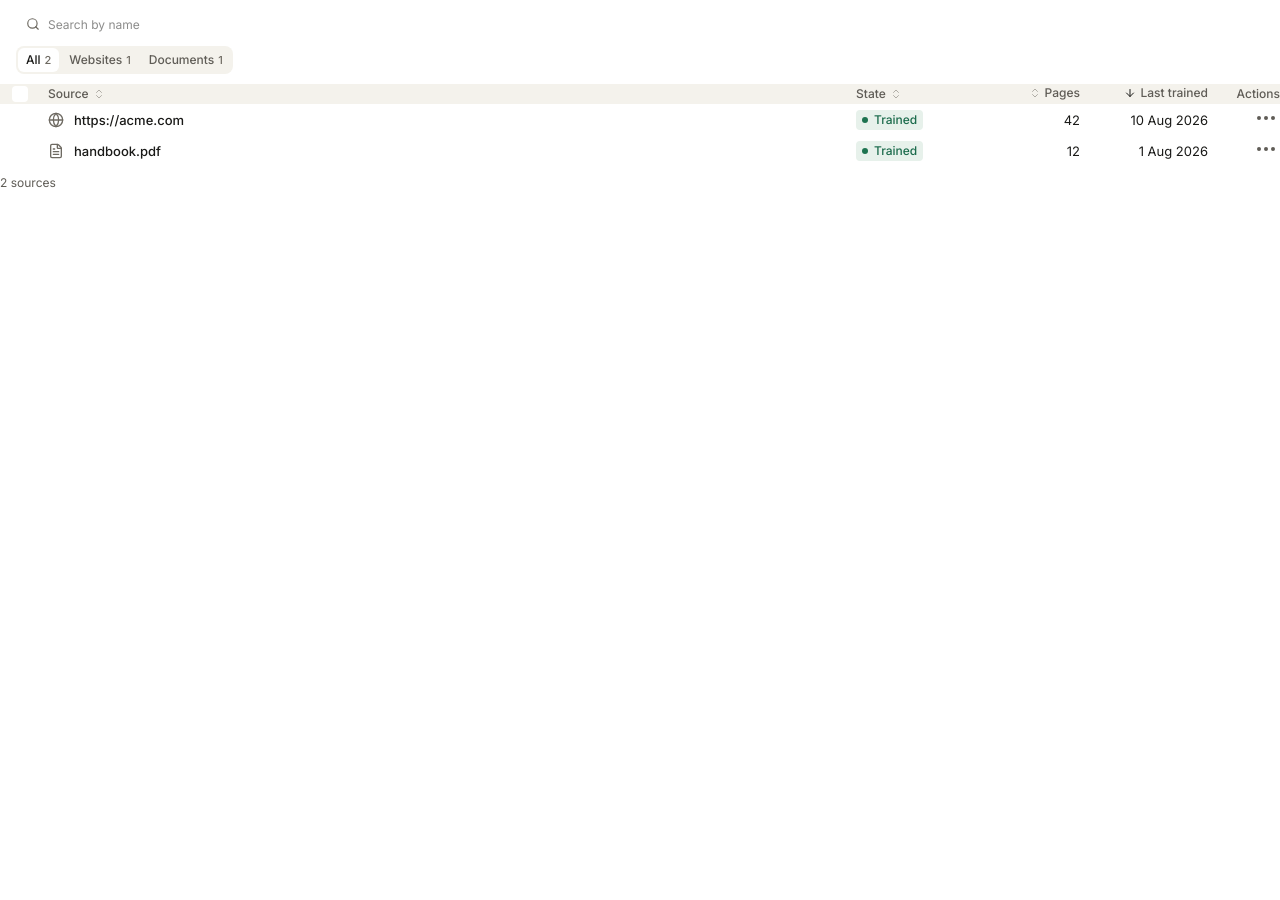
Scenario: SourcesTable — deleting indexed knowledge › deletes nothing when the confirmation is dismissed
The image size is (1280, 900).
Click the button named "Actions for handbook.pdf".
click(1266, 149)  # box [1252,135,1279,163]
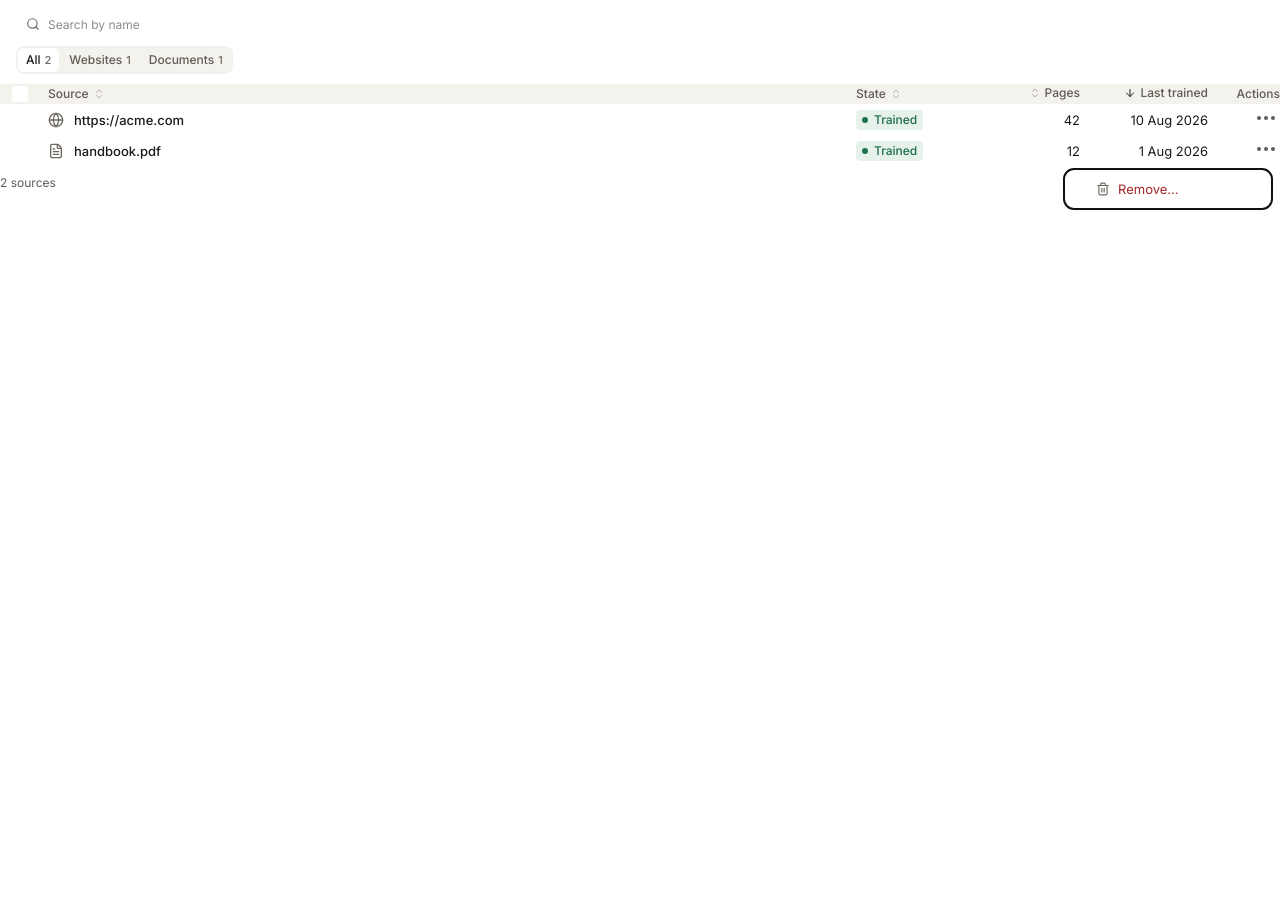
Click the menu item "Remove…".
click(1137, 189)  # box [1096,181,1179,197]
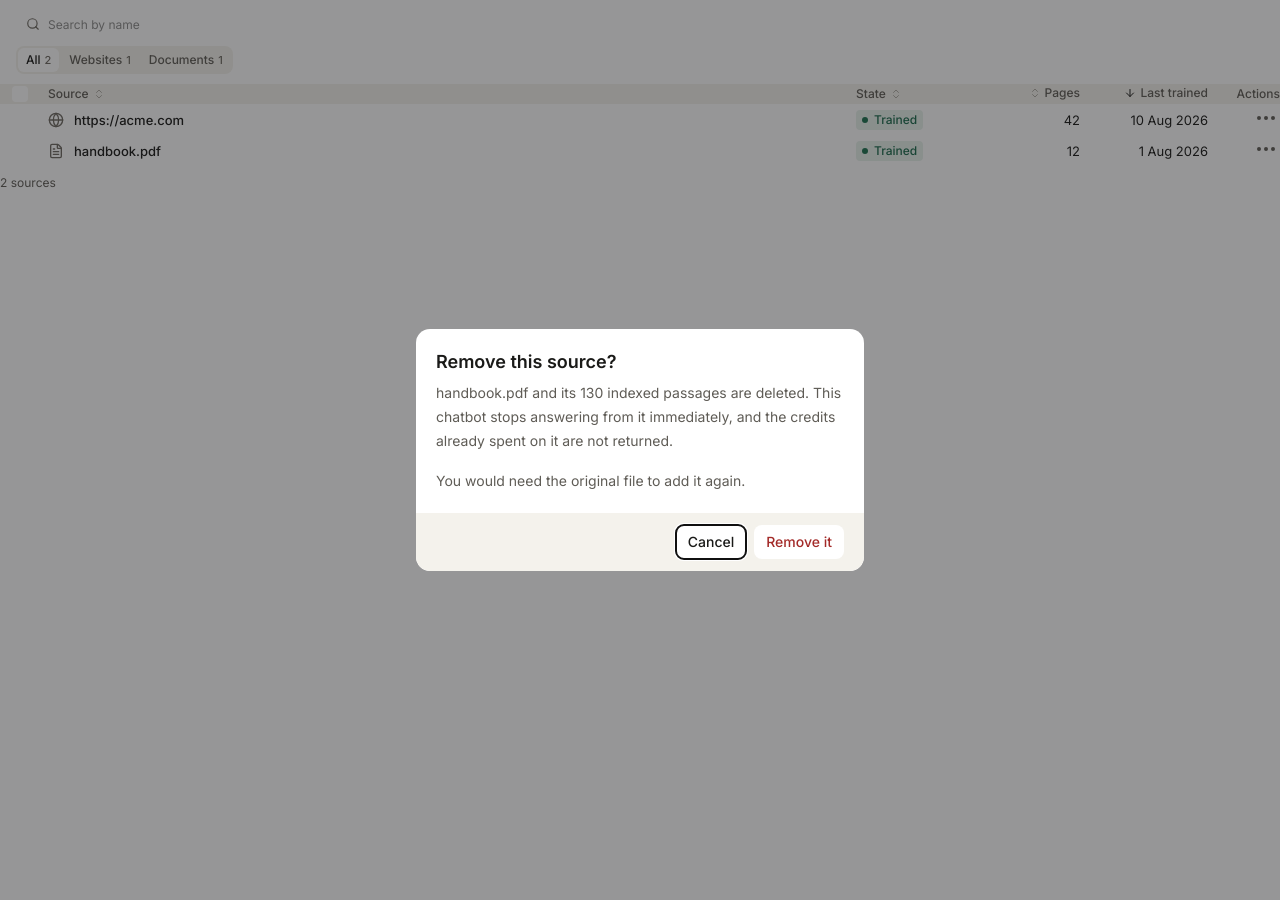
Click the button "Cancel".
click(711, 542)  # box [676,525,746,559]
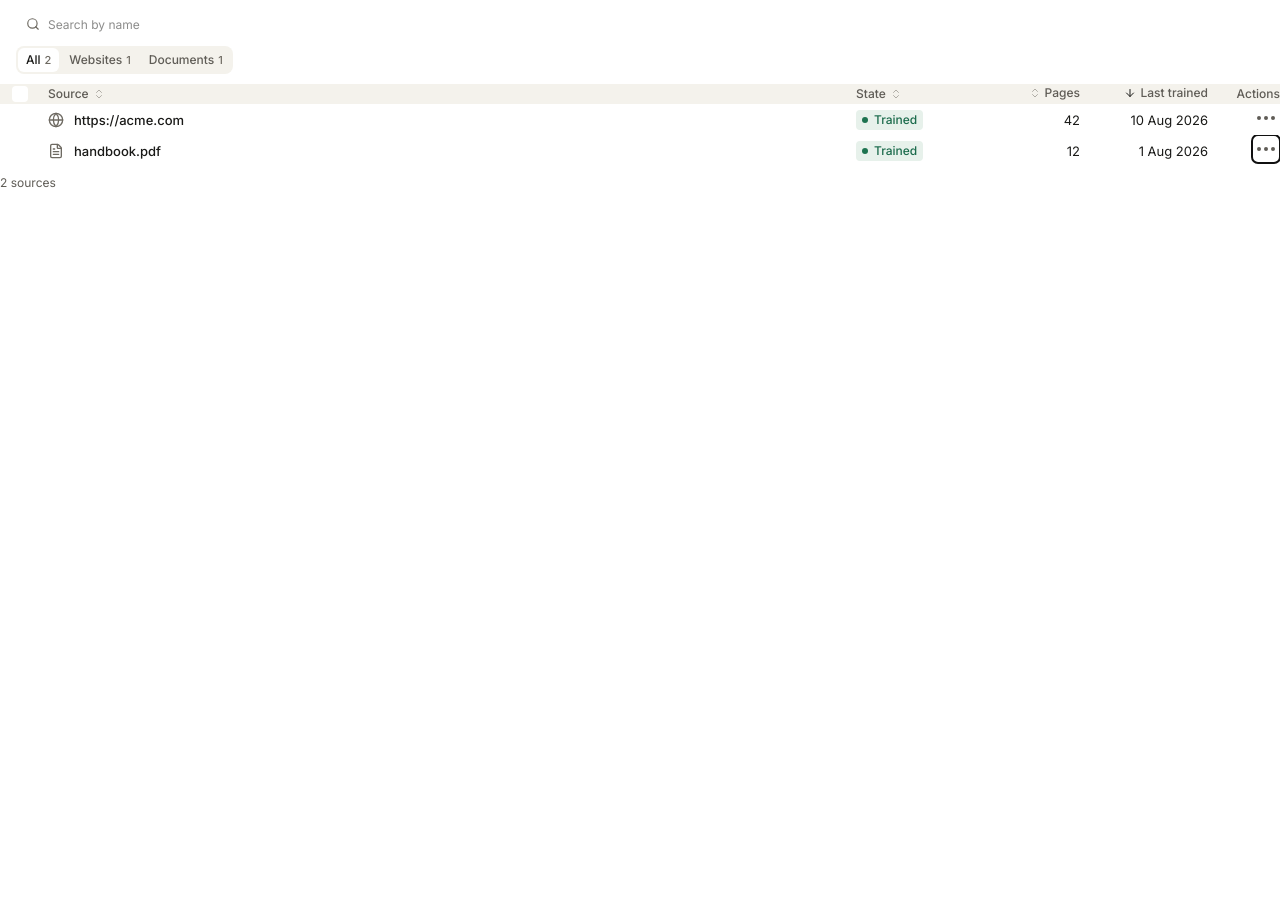
Result: the dialog is gone
